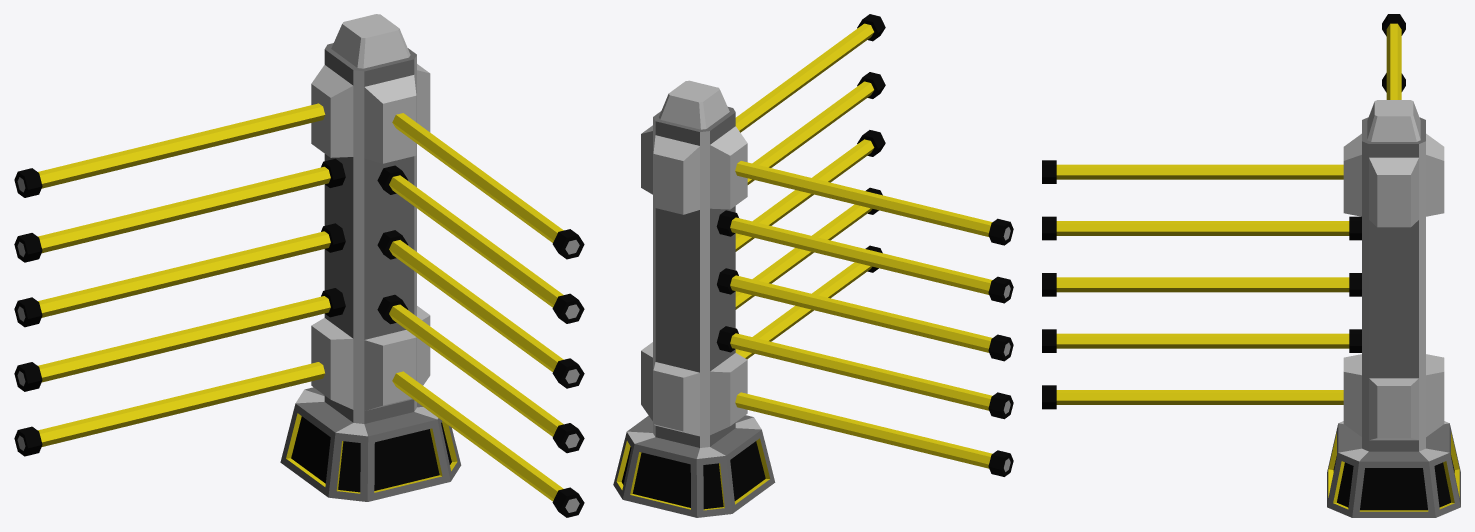
Rendered from Wall2.fbx.
3 views of the same model, side by side, from view 1: azimuth 30°, elevation 25°; view 2: azimuth 150°, elevation 25°; view 3: azimuth 270°, elevation 25° (orthographic). The views are drawn at different scales.
Parts seen in each view (by area): view 1: Wall2; view 2: Wall2; view 3: Wall2.
Boxes of the visible parts, x1,y1,x2,y2 form: Wall2: (14, 14, 584, 517); Wall2: (613, 14, 1013, 517); Wall2: (1042, 14, 1460, 517).
Bounding box in the file's own units: 135 × 136 × 135.
